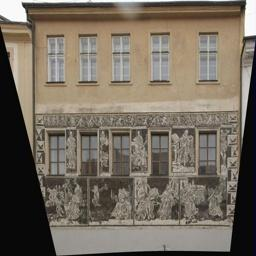building: (28, 0, 245, 226)
